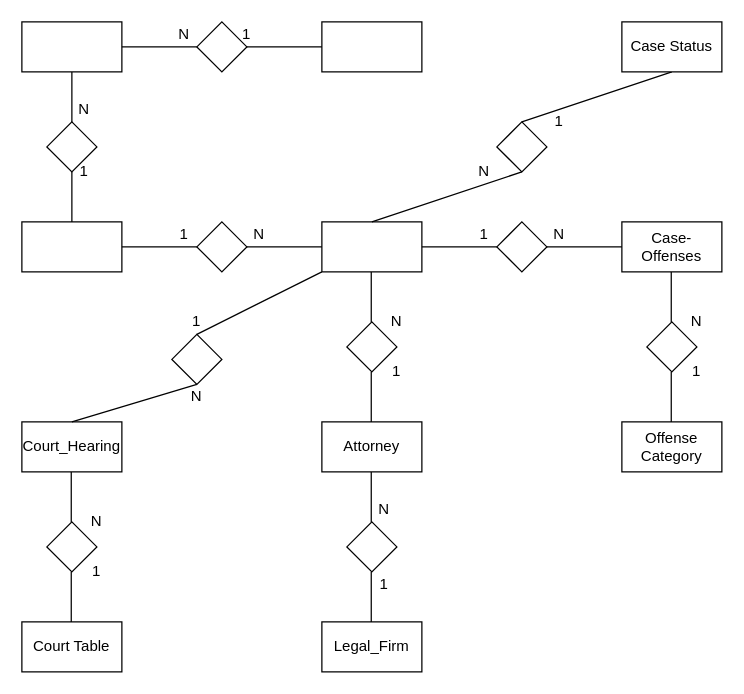
This 744x694 diagram has some shape labels left out. The shapes that lost their labels are listed below. From the top down, each one's centre as x and y in pixels, then its label:
(71,46): Incarceration Table
(371,46): Prison
(71,246): Prisoner
(371,246): Case
